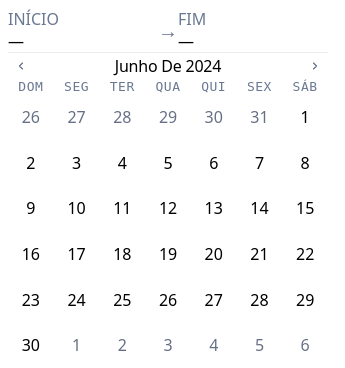
Scenario: <DateRangePicker /> › first day click sets the start date and leaves the end empty
Click the cell "10" at [77, 208], box [54,185,99,231]
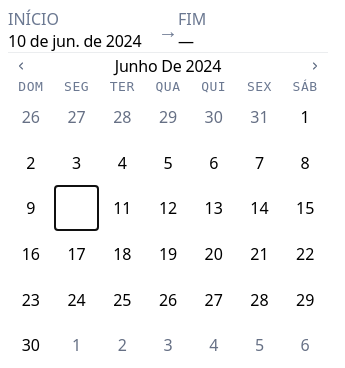
Expected: the text "—" is shown, [178,30,194,52]
Expected: the text "10 de jun. de 2024" is shown, [8,30,158,52]
